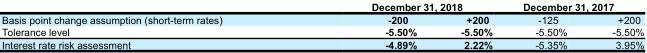table: (0, 0, 643, 50)
table column: (0, 0, 296, 50), (296, 0, 438, 50), (507, 0, 589, 50), (438, 0, 507, 50), (589, 0, 643, 50)
table column header: (0, 0, 643, 25)
table row: (0, 12, 643, 25), (0, 25, 643, 38), (0, 0, 643, 12), (0, 38, 643, 50)
table spanning cell: (0, 0, 296, 25), (296, 0, 507, 12), (507, 0, 643, 12)
